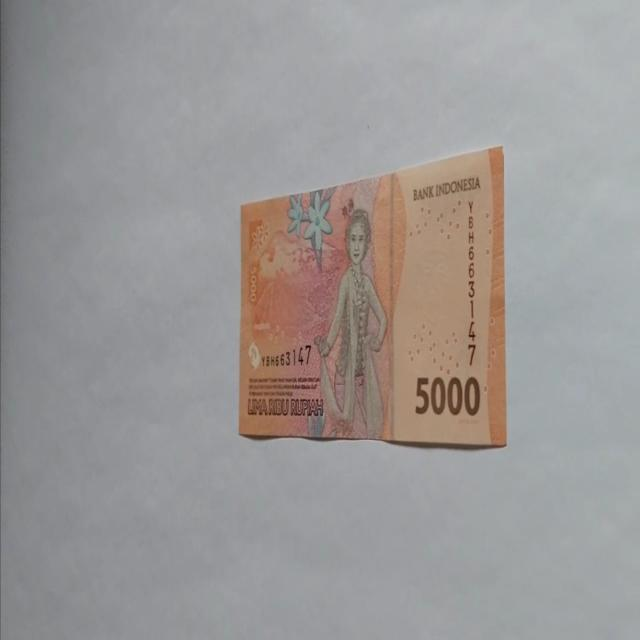lima ribu rupiah: (238, 144, 507, 448), (312, 207, 388, 439)
